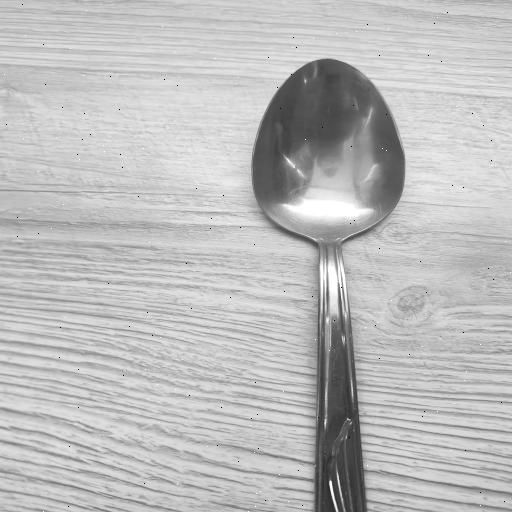spoon: (250, 62, 403, 512)
